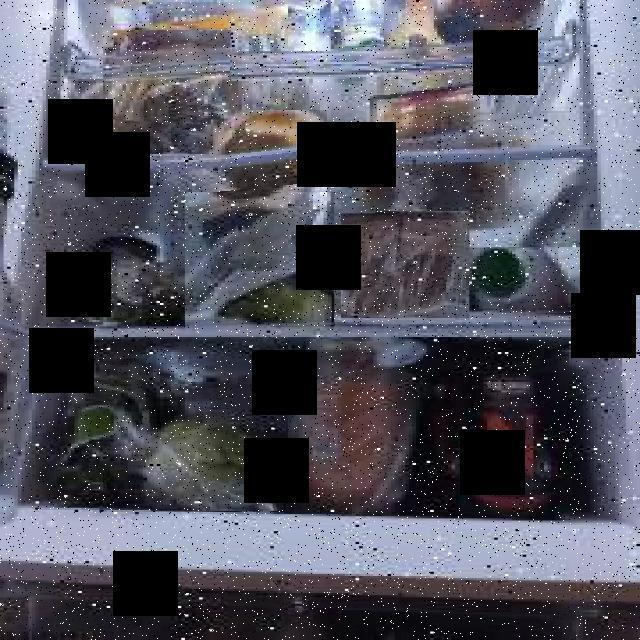bread: (342, 211, 469, 318)
broccoli: (185, 192, 334, 329)
cheese: (364, 80, 496, 127)
humus: (105, 30, 233, 119), (213, 110, 327, 204)
milk: (470, 247, 590, 316)
pineapple: (107, 81, 213, 154)
salad: (130, 415, 286, 511)
yogurt: (334, 1, 384, 48), (288, 0, 331, 51)
